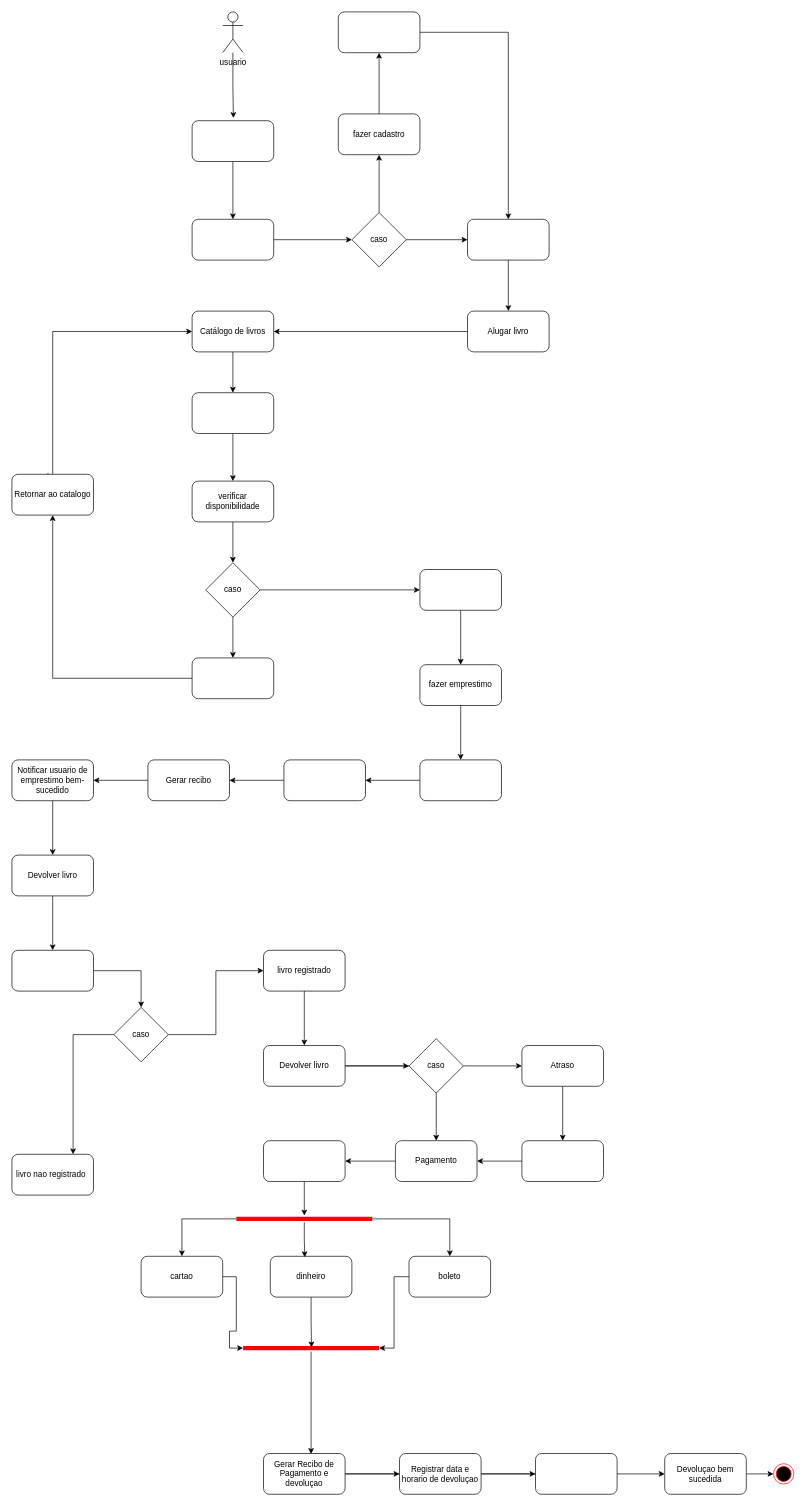
The diagram is 806 pixels wide and 1506 high, and some of its shapes have lost their labels. Here are the shapes that lost their labels. From the top down, the box of each, then its label:
(338, 11, 420, 53): email,senha ,telefone, endereço e cpf
(191, 120, 274, 162): biblioteca
(191, 219, 274, 260): acessar biblioteca
(467, 219, 549, 260): fazer login
(191, 392, 274, 434): escolher livro
(419, 569, 502, 610): disponivel
(191, 657, 274, 699): indisponivel
(283, 759, 366, 801): status do livro -Emprestado
(419, 759, 502, 801): registrar data e hora do emprestimo
(11, 950, 94, 991): verificar codigo de barras
(263, 1140, 345, 1182): Formas de pagamento
(521, 1140, 604, 1182): Calcular multas
(535, 1453, 617, 1494): Atualizar status do livro para disponivel
